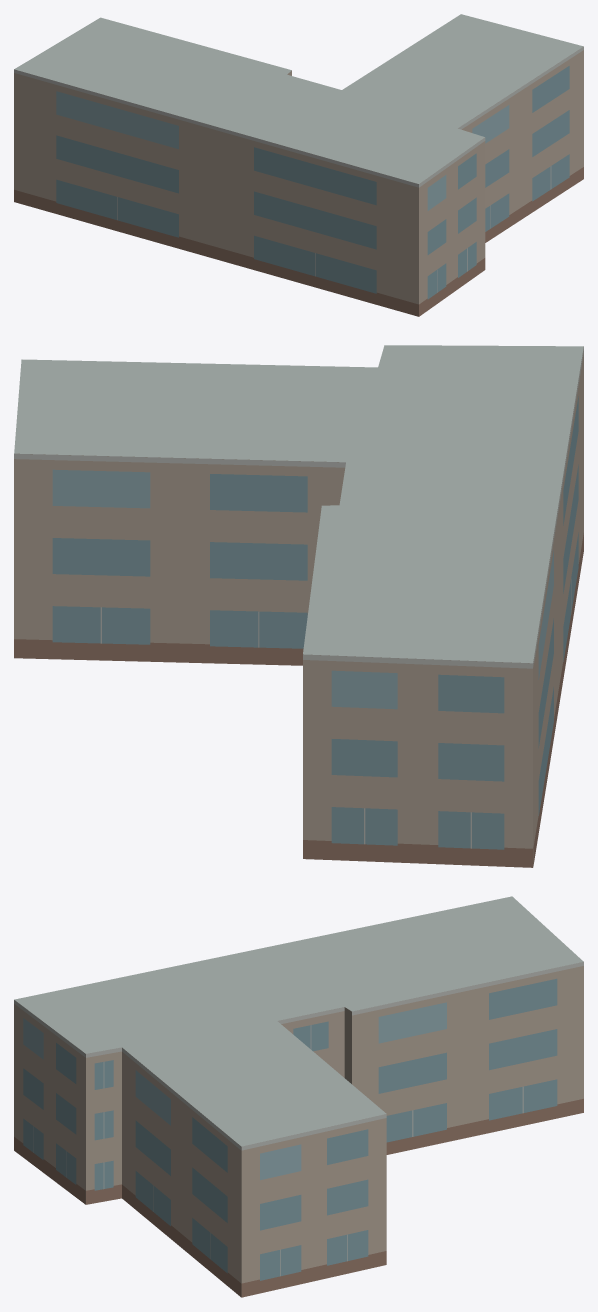
File: survey-upis-32733723.glb
The picture shows the model from 3 angles, top to bottom: view 1: azimuth 30°, elevation 25°; view 2: azimuth 150°, elevation 25°; view 3: azimuth 270°, elevation 25°; orthographic projection. The views are drawn at different scales.
Parts seen in each view (by area): view 1: survey-upis-32733723.tmp; view 2: survey-upis-32733723.tmp; view 3: survey-upis-32733723.tmp.
Part boxes in pixels (<box>): survey-upis-32733723.tmp: <box>14,14,583,316</box>; survey-upis-32733723.tmp: <box>14,345,583,867</box>; survey-upis-32733723.tmp: <box>14,896,583,1297</box>.
Size of the model in its own units: 32.55 by 9.15 by 31.31.
